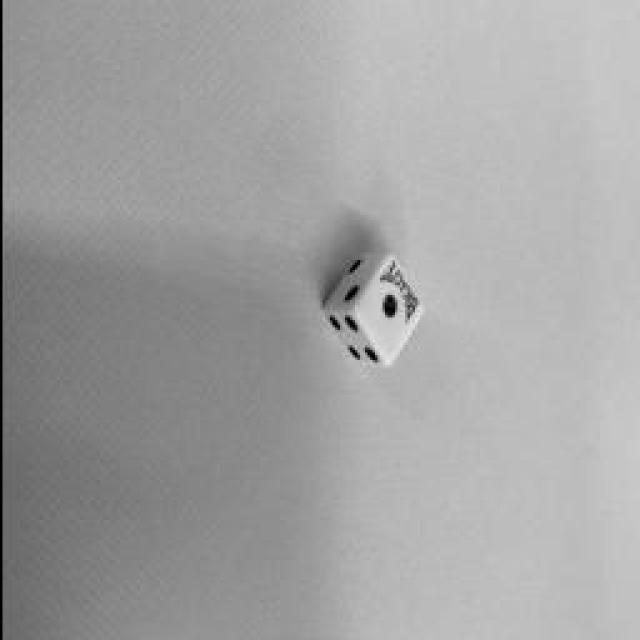dice_1: (351, 250, 421, 365)
